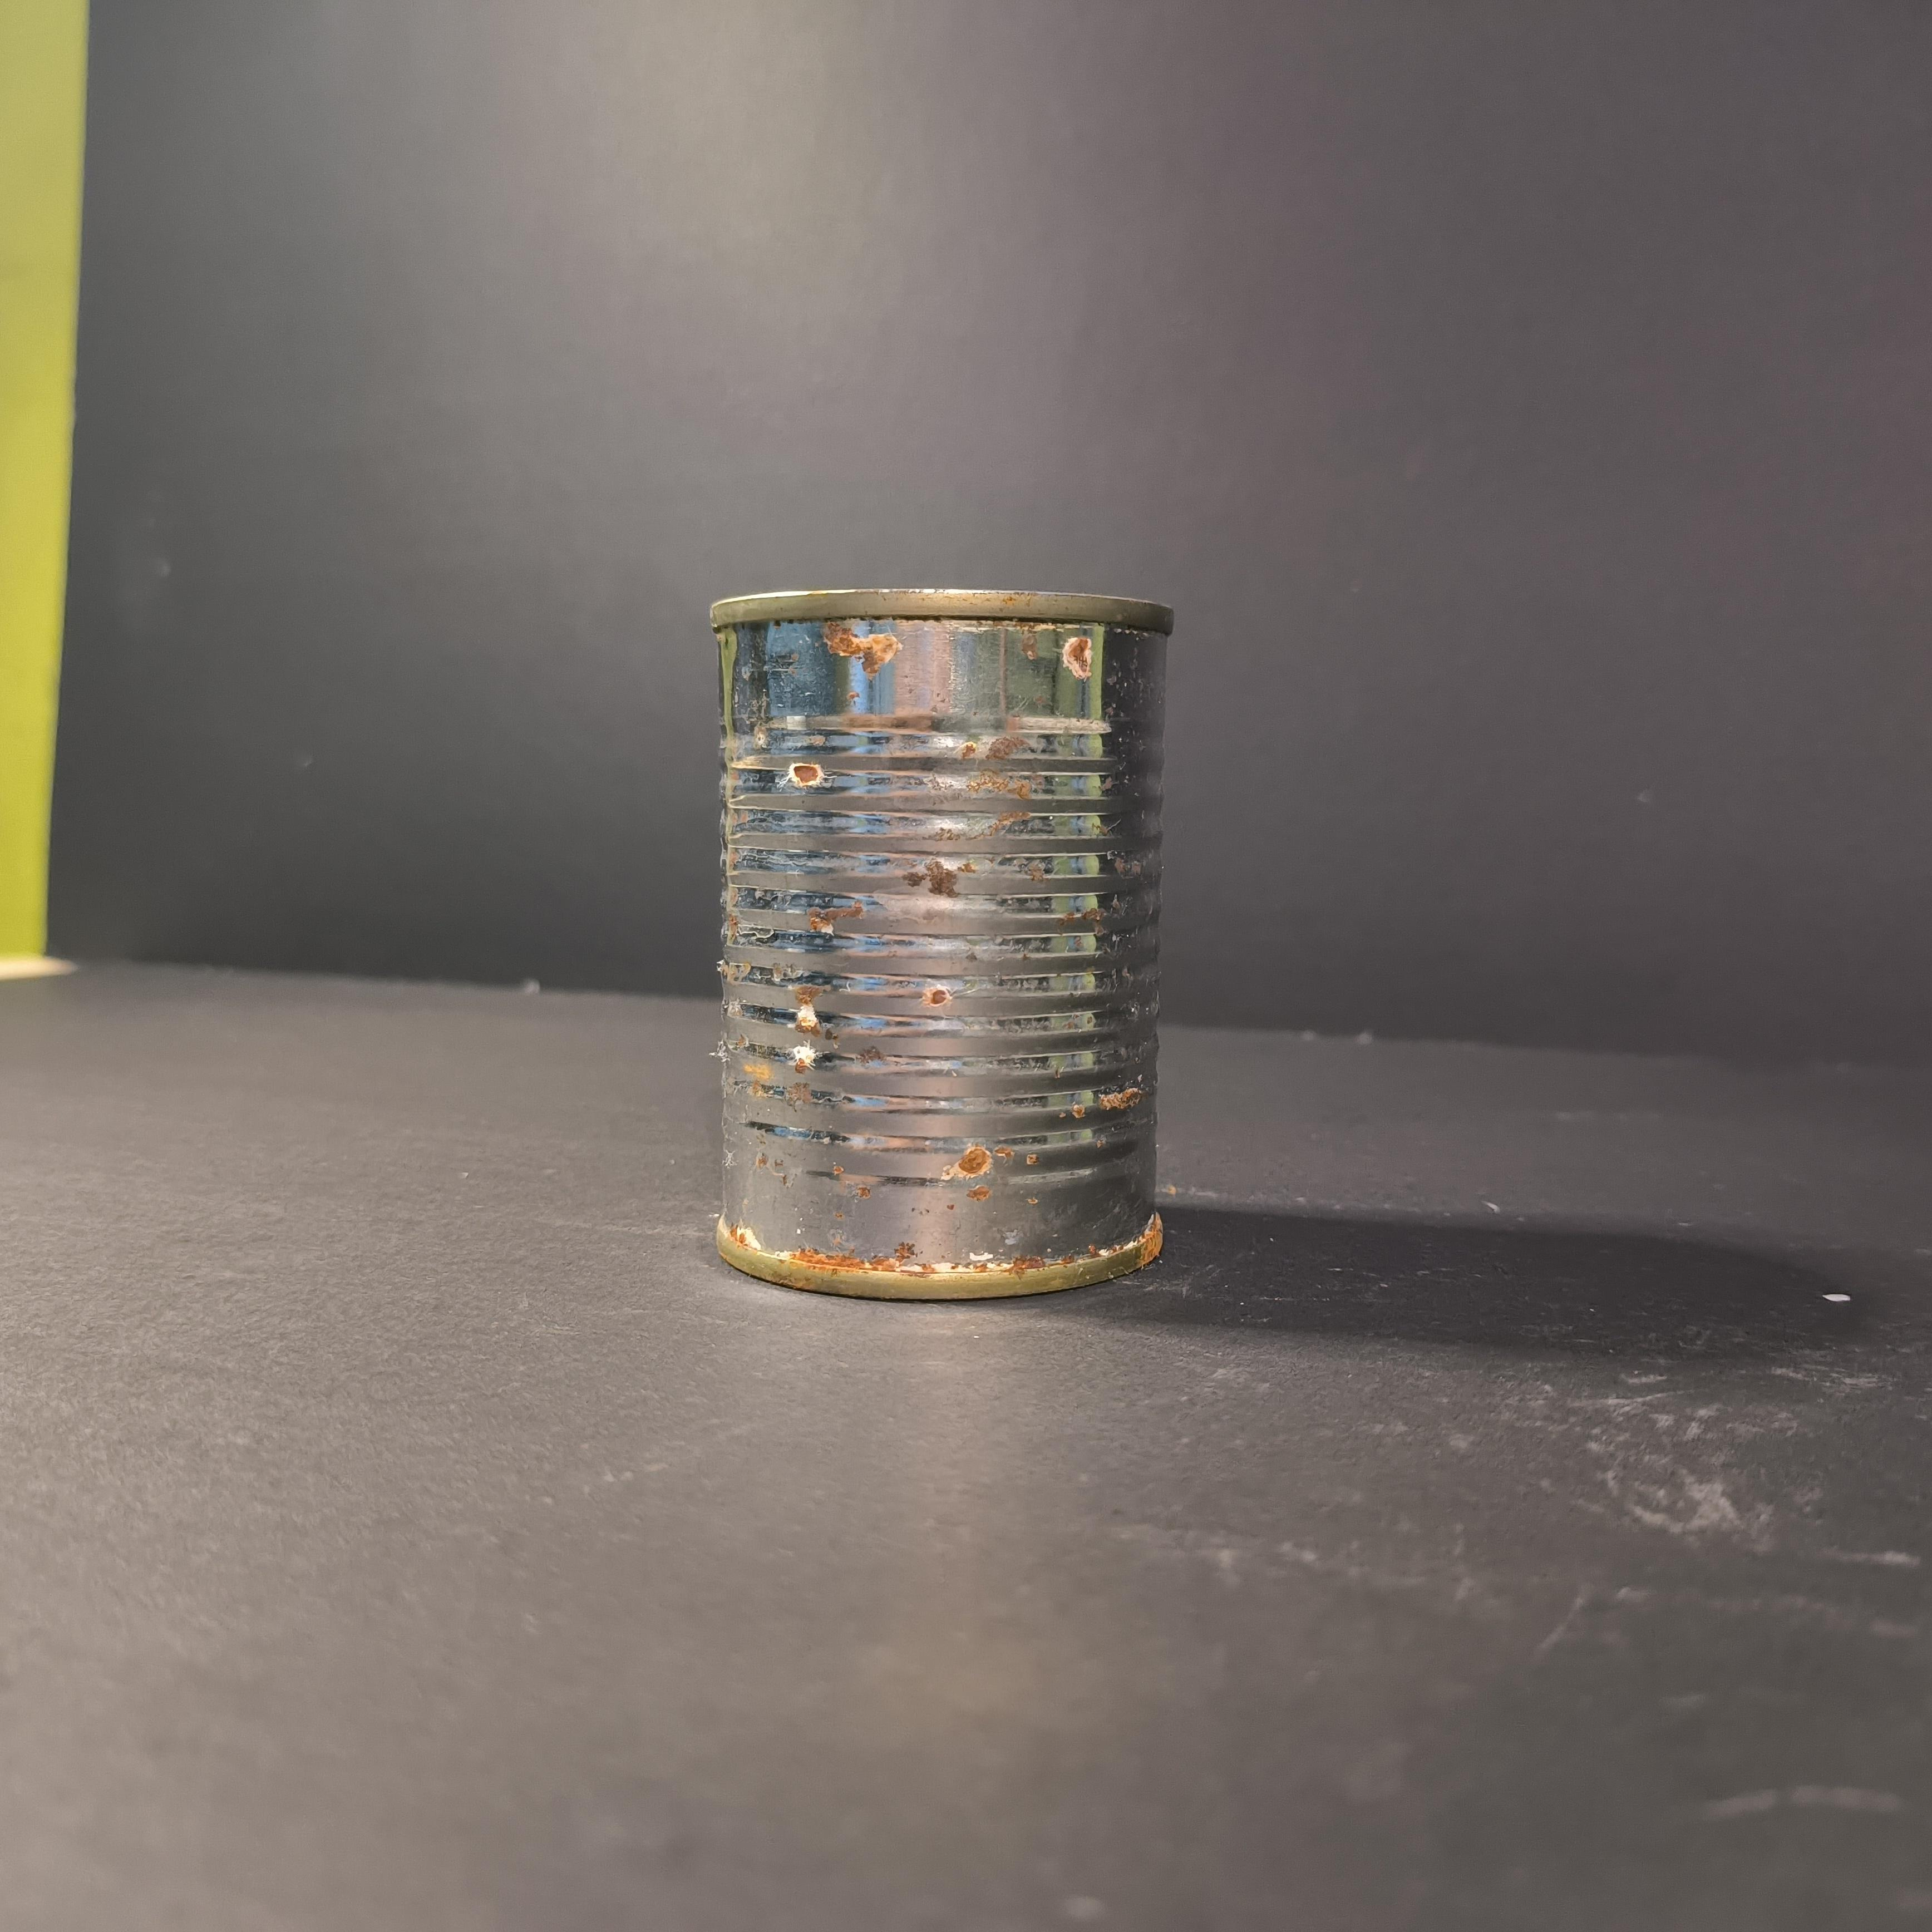Rusted: (695, 559, 1191, 1325)
